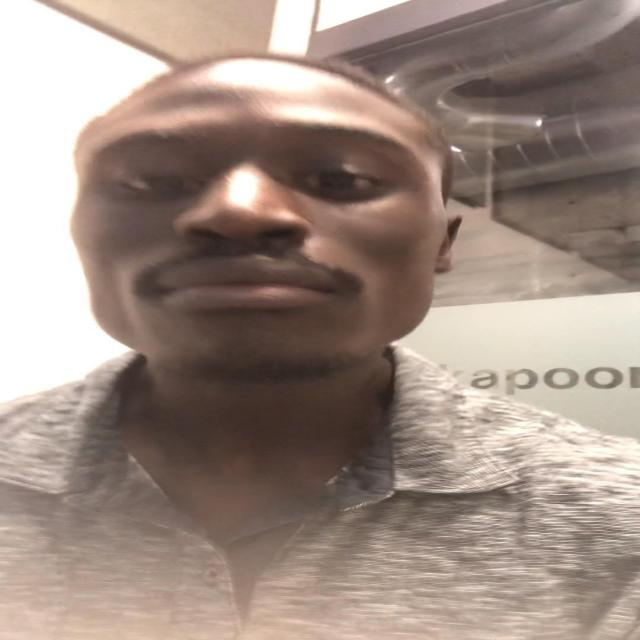face: (68, 88, 447, 384)
